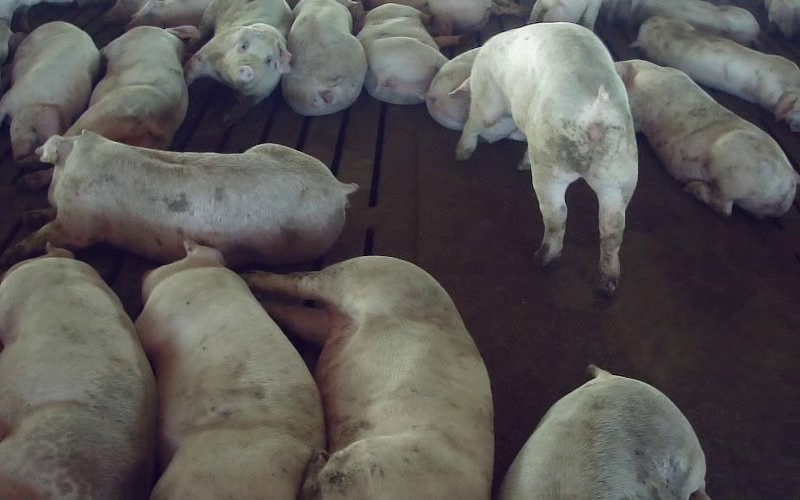pig: (244, 256, 493, 499), (456, 23, 637, 294), (135, 241, 324, 499), (0, 131, 356, 265), (0, 246, 156, 499), (616, 60, 799, 217), (499, 365, 708, 499), (632, 16, 799, 131), (65, 26, 199, 149), (0, 21, 99, 166), (357, 3, 459, 103), (281, 0, 366, 115), (630, 0, 759, 44)
